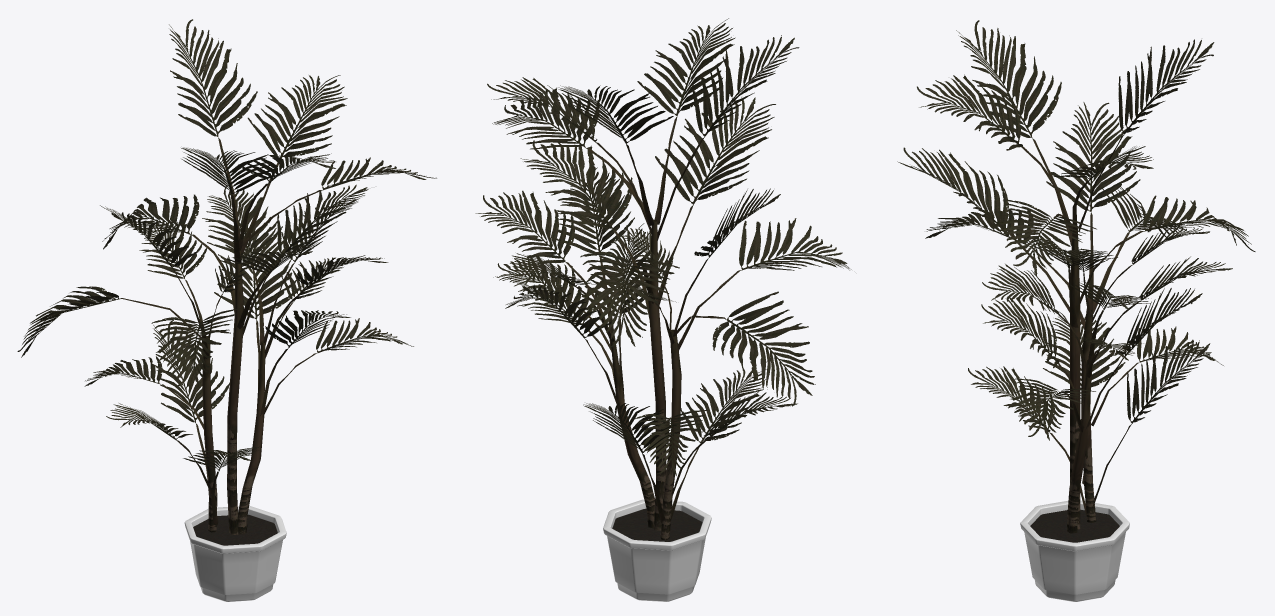
File: T_Plants_BC.fbx
3 renders of one model, left to right at view 1: azimuth 30°, elevation 25°; view 2: azimuth 150°, elevation 25°; view 3: azimuth 270°, elevation 25°, orthographic. The views are drawn at different scales.
Parts seen in each view (by area): view 1: SM_PlantI_LOD0; view 2: SM_PlantI_LOD0; view 3: SM_PlantI_LOD0.
Part boxes in pixels (x1=…): SM_PlantI_LOD0: x1=17, y1=19, x2=436, y2=601; SM_PlantI_LOD0: x1=475, y1=18, x2=851, y2=601; SM_PlantI_LOD0: x1=897, y1=20, x2=1255, y2=601.
Size of the model in its own units: 138 by 190 by 115.
